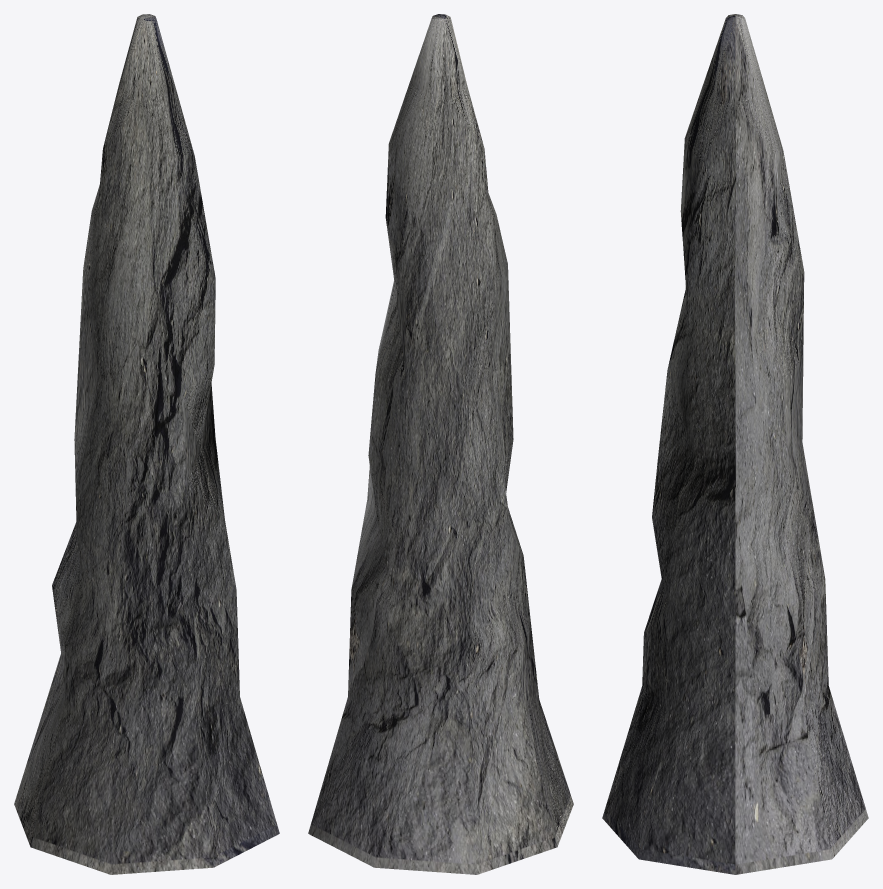
The model's file is stalagtite1.FBX.
3 renders of one model, left to right at view 1: azimuth 30°, elevation 25°; view 2: azimuth 150°, elevation 25°; view 3: azimuth 270°, elevation 25°, orthographic.
Parts seen in each view (by area): view 1: Plane001; view 2: Plane001; view 3: Plane001.
Part boxes in pixels (x1,y1,x2,y2): Plane001: [14, 14, 279, 874]; Plane001: [308, 14, 573, 874]; Plane001: [602, 14, 868, 874].
Bounding box in the file's own units: 84.83 × 84.16 × 279.
1 material, 1 textured.
